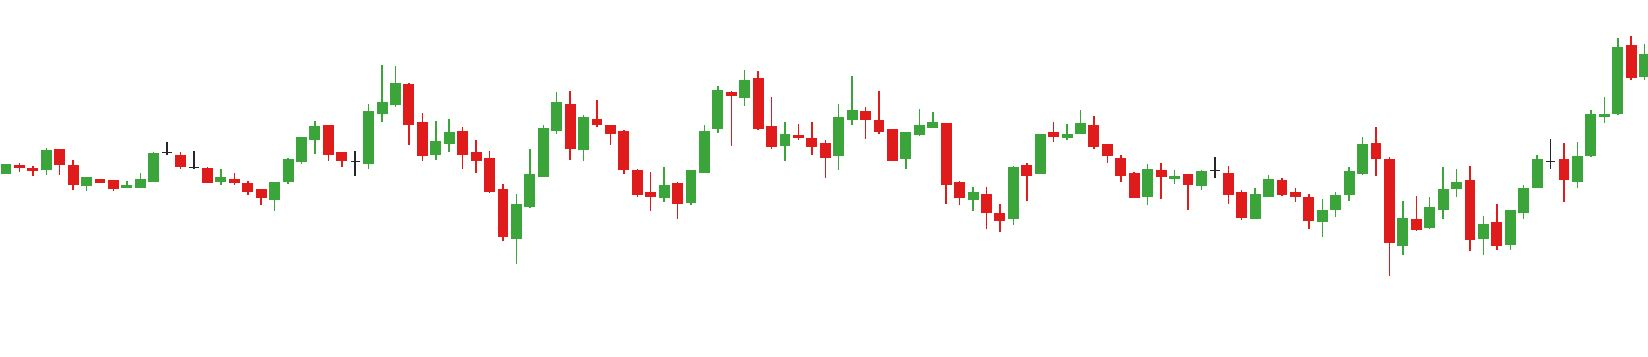buy: (255, 136, 524, 261), (1314, 186, 1412, 277)
